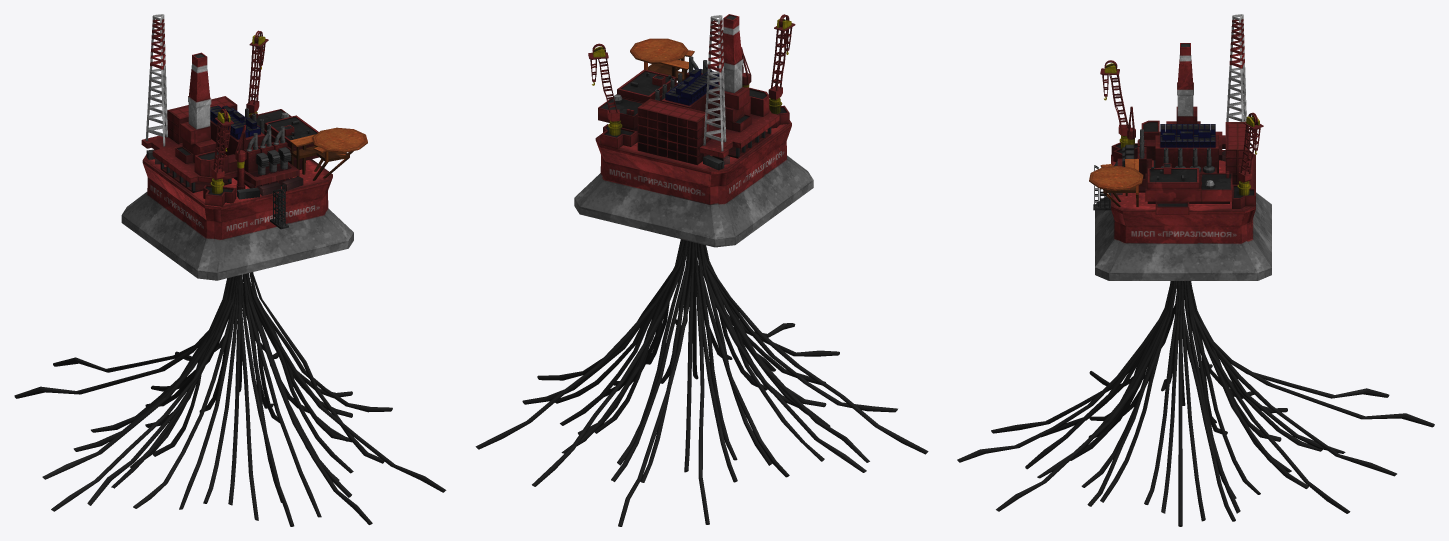
File: PrirazlomnayaUnwrappedFinal.obj
3 views of the same model, side by side, from view 1: azimuth 30°, elevation 25°; view 2: azimuth 150°, elevation 25°; view 3: azimuth 270°, elevation 25° (orthographic). The views are drawn at different scales.
Parts seen in each view (by area): view 1: Box731; view 2: Box731; view 3: Box731.
Part boxes in pixels (left/top/right/bottom): Box731: left=14, top=14, right=446, bottom=526; Box731: left=475, top=14, right=928, bottom=526; Box731: left=957, top=14, right=1434, bottom=526.
Bounding box in the file's own units: 193 × 223 × 226.
Materials: 1 (1 with a texture image).
